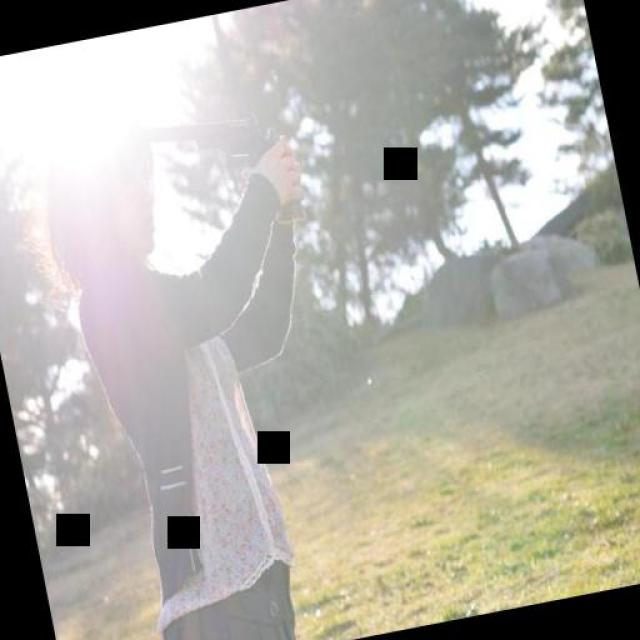gun: (136, 86, 314, 252)
